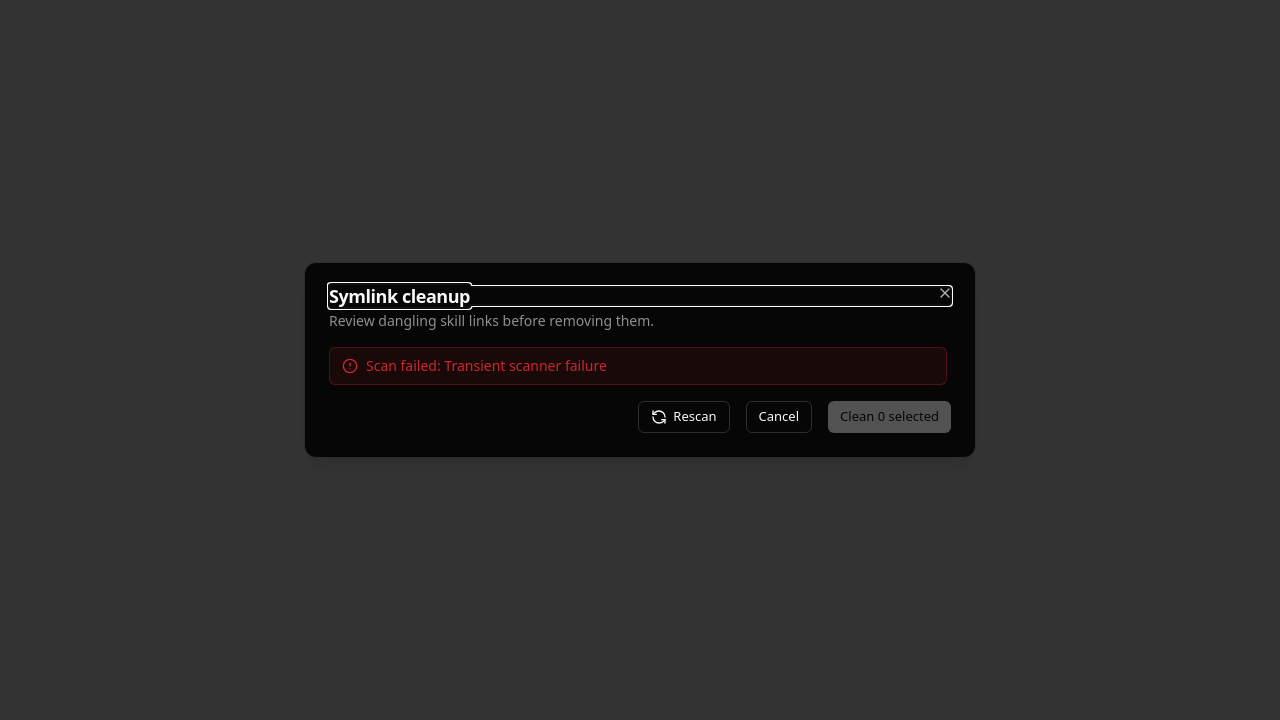
Test: SymlinkCleanupDialog › shows a rescan affordance after an initial scan failure
The image size is (1280, 720).
Click the button "Rescan".
click(684, 417)  # box left=638, top=401, right=730, bottom=433
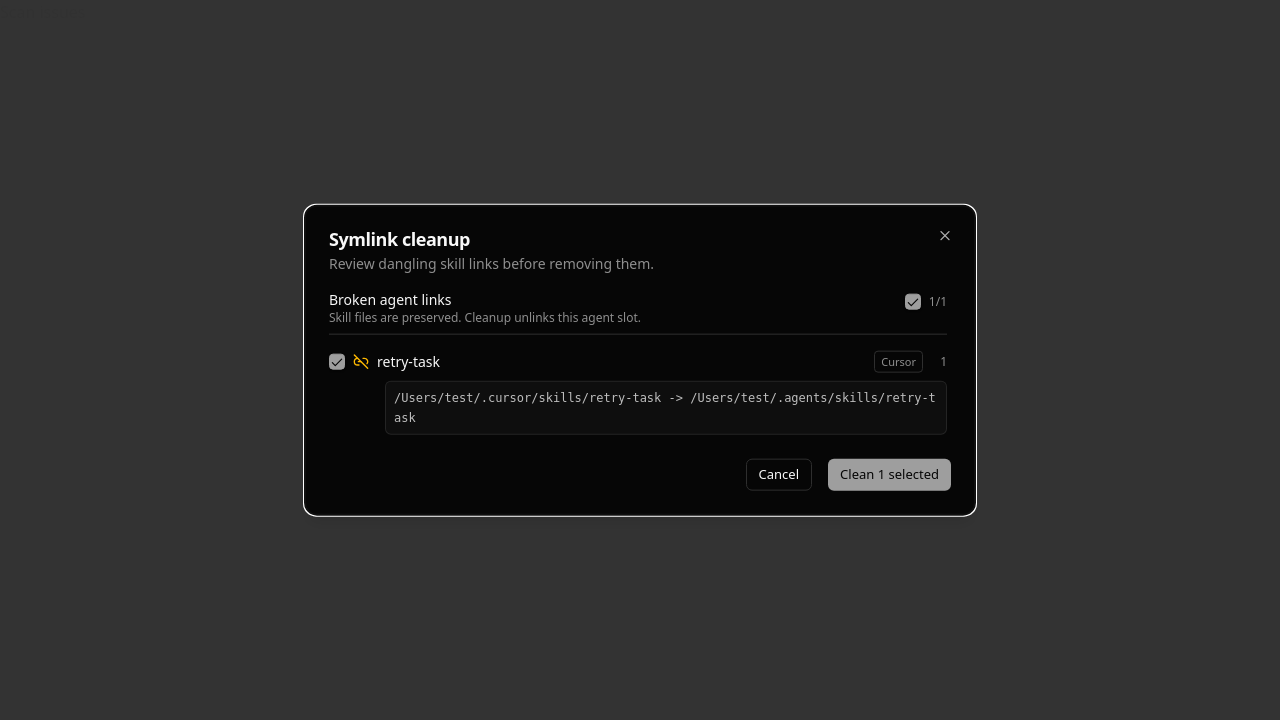
Result: the button "Clean 1 selected" is shown at left=828, top=458, right=951, bottom=490
Result: the text "retry-task" is shown at left=377, top=352, right=440, bottom=370
